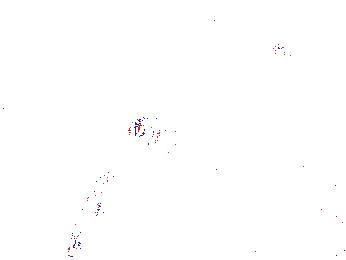X-ray fish: (125, 113, 193, 155)
glassfish: (181, 131, 278, 199), (68, 160, 121, 254)
red belly glassfish: (273, 40, 315, 57)
redtail glassfish: (171, 1, 252, 20)
